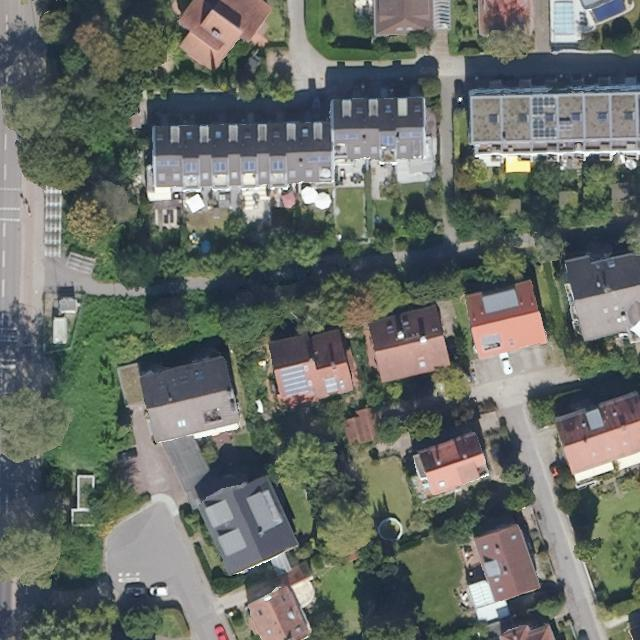PV: (280, 363, 311, 397), (533, 96, 556, 121), (533, 115, 556, 138), (335, 130, 362, 141), (399, 128, 423, 140), (158, 158, 181, 168), (307, 153, 330, 163), (183, 159, 197, 174), (213, 159, 226, 173), (242, 158, 255, 172), (381, 134, 395, 147), (272, 158, 284, 171)
